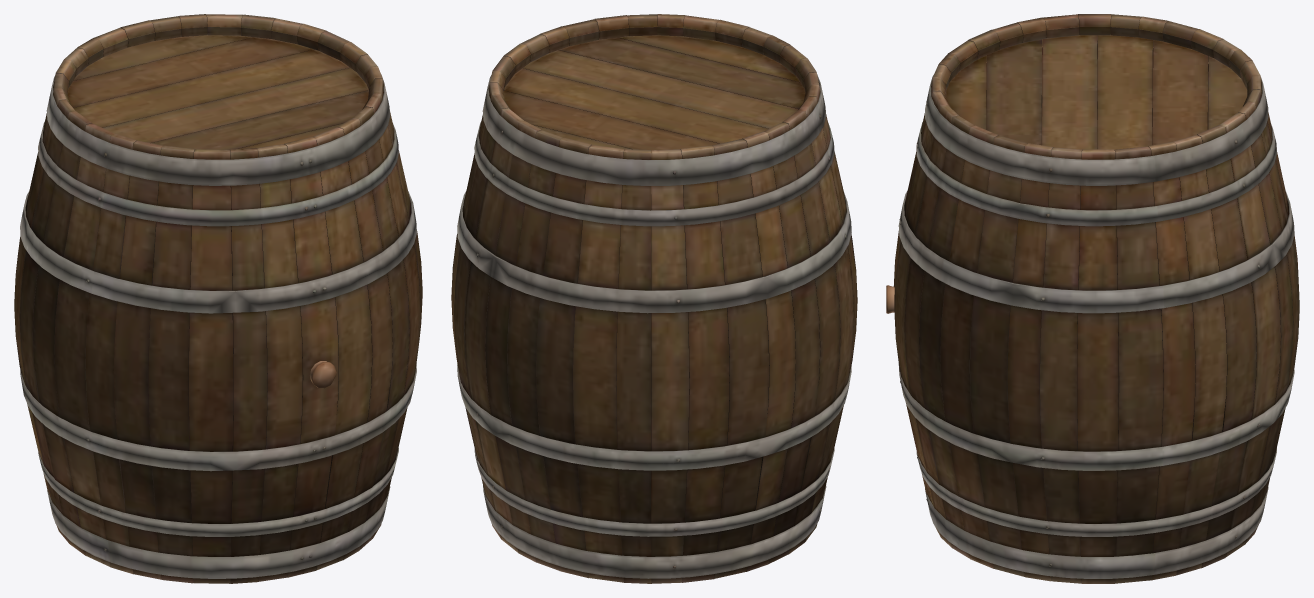
Rendered from wine_barrel_01.glb.
The picture shows the model from 3 angles, left to right: view 1: azimuth 30°, elevation 25°; view 2: azimuth 150°, elevation 25°; view 3: azimuth 270°, elevation 25°; orthographic projection.
Visible parts, largest first — view 1: wine_barrel_01_Lid; view 2: wine_barrel_01_Lid; view 3: wine_barrel_01_Lid.
Part boxes in pixels (x1,y1,x2,y2): wine_barrel_01_Lid: (14,14,422,583); wine_barrel_01_Lid: (451,14,857,583); wine_barrel_01_Lid: (886,14,1299,583).
Bounding box in the file's own units: 0.7419 × 0.8704 × 0.7554.
Materials: 1 (1 with a texture image).
